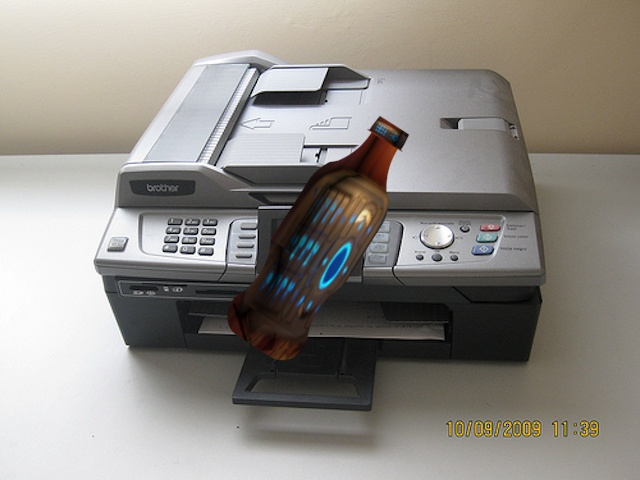bottle: (224, 112, 416, 369)
